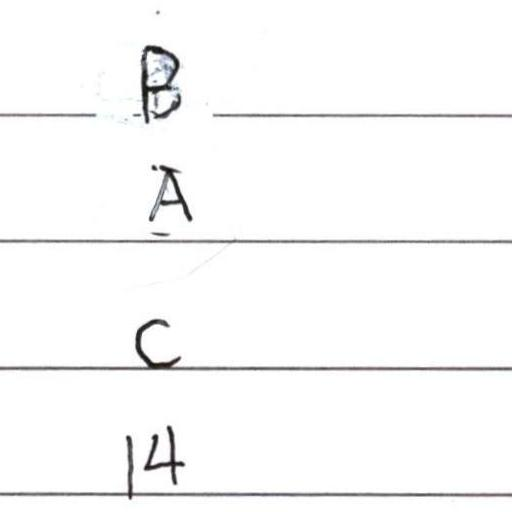ans: (121, 422, 185, 496), (131, 35, 183, 124), (132, 317, 183, 370), (148, 164, 192, 224)
